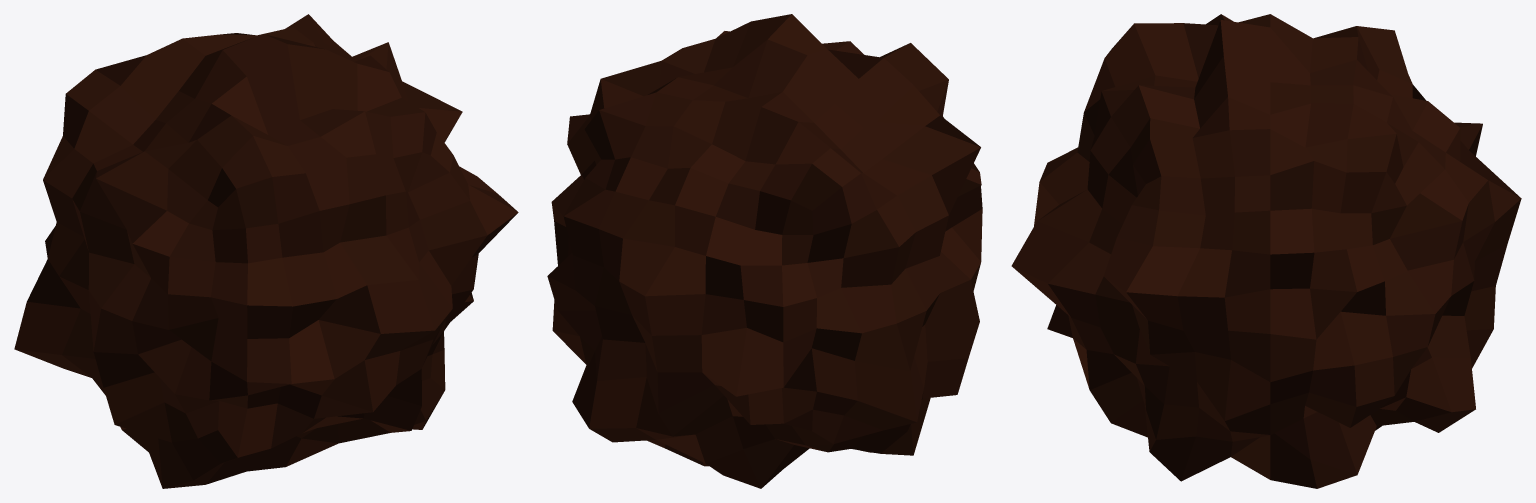
The model's file is asteroid.fbx.
3 renders of one model, left to right at view 1: azimuth 30°, elevation 25°; view 2: azimuth 150°, elevation 25°; view 3: azimuth 270°, elevation 25°, orthographic. The views are drawn at different scales.
Visible parts, largest first — view 1: Cube; view 2: Cube; view 3: Cube.
Boxes of the visible parts, bbox=[...] form: Cube: bbox=[14, 14, 518, 488]; Cube: bbox=[547, 14, 982, 488]; Cube: bbox=[1011, 14, 1521, 488].
Bounding box in the file's own units: 273 × 286 × 298.
